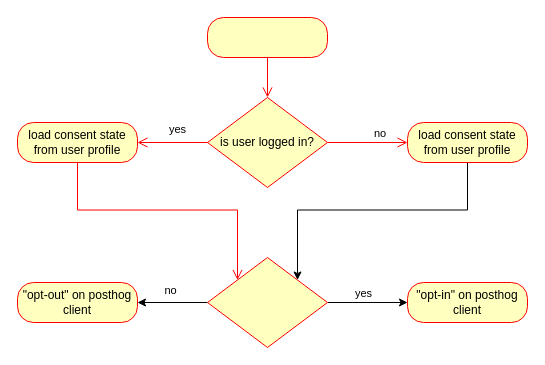
Some shapes in this 545 by 365 pixel diagram are drawn without their labels. Here are the shapes that lost their labels. From the top down, the box of each, then its label:
(206, 16, 328, 58): App initialization
(206, 256, 328, 348): consent given for analytics purpose?
